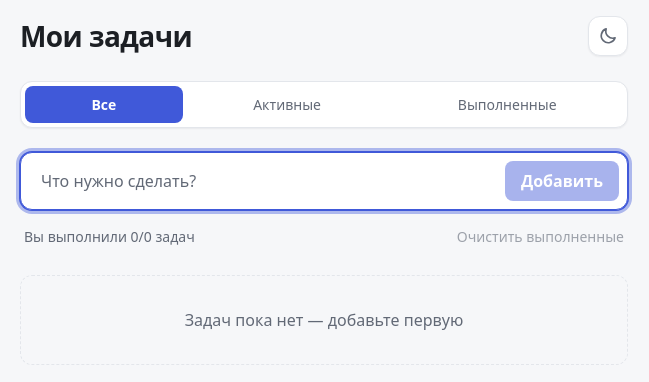
Scenario: App: focus after a task leaves the current filter › moves focus to the input when no tasks are left in the filter
The width and height of the screenshot is (649, 382).
In the field named "Новая задача": (263, 181) x1=29 y1=159 x2=497 y2=203, type "Одна"
Then press Enter
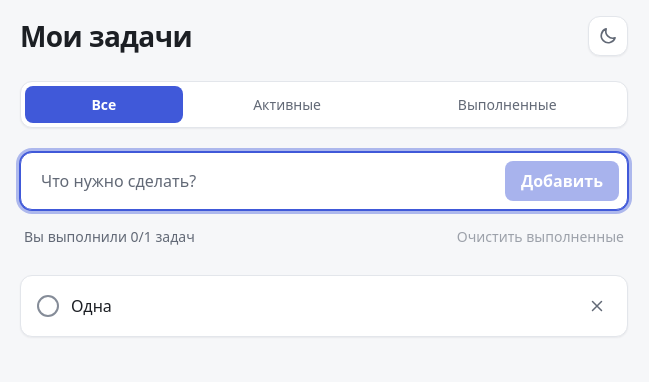
Click the button with aria-label "Активные задачи": (287, 104) x1=187 y1=86 x2=388 y2=123
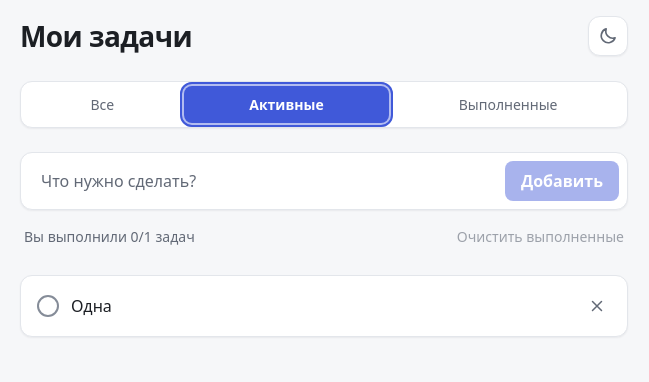
Click the checkbox labelled "Одна": (48, 306) x1=37 y1=295 x2=59 y2=317
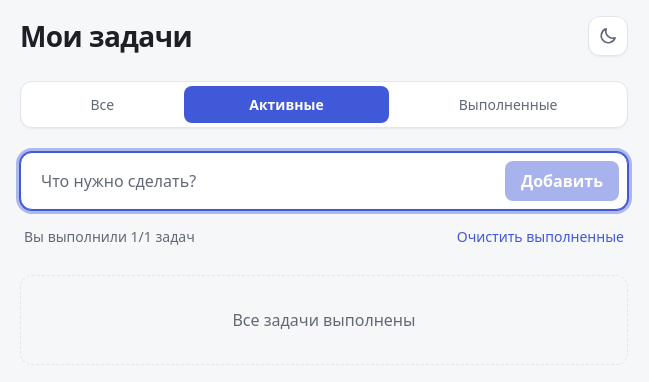
Expected: the text "Все задачи выполнены" is shown, x1=20 y1=275 x2=628 y2=365
